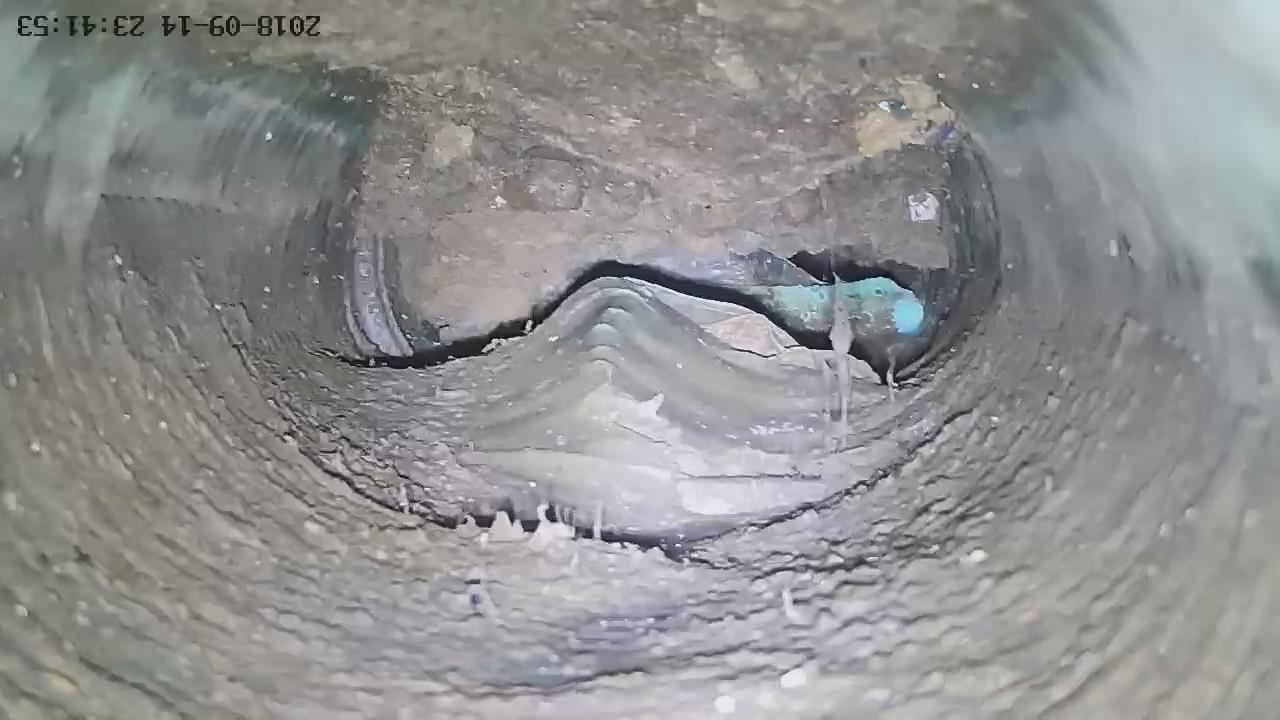BX: (289, 275, 896, 534)
CJ: (150, 1, 1009, 341)
